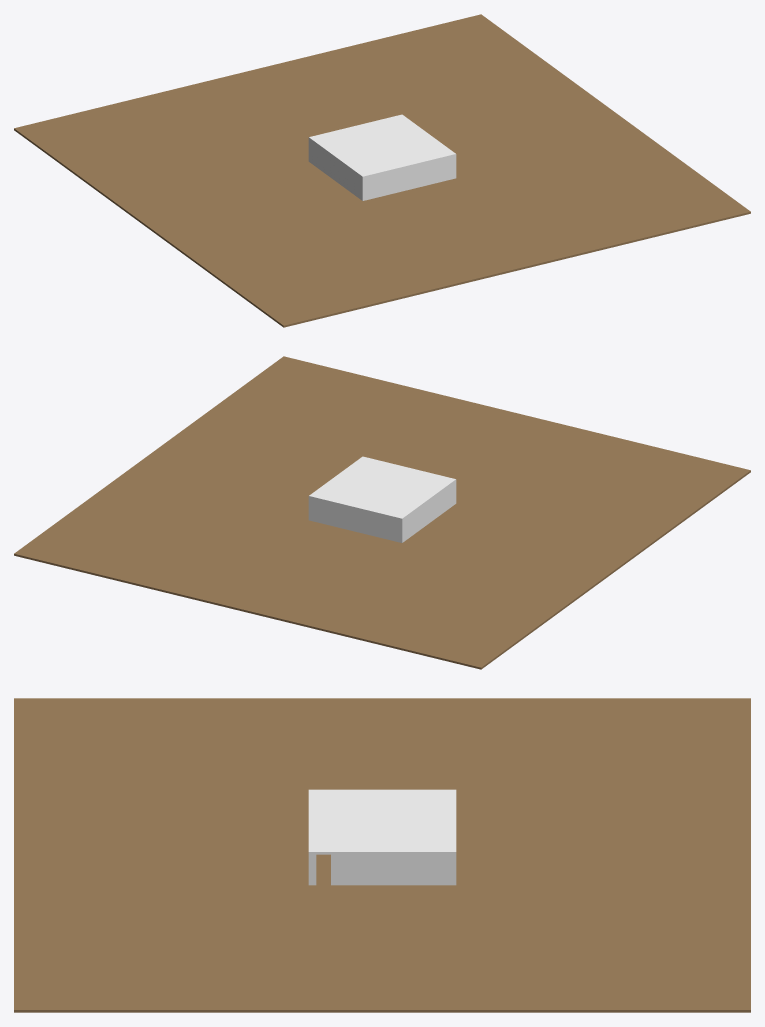
File: two-rooms.glb
The picture shows the model from 3 angles, top to bottom: view 1: azimuth 30°, elevation 25°; view 2: azimuth 150°, elevation 25°; view 3: azimuth 270°, elevation 25°; orthographic projection. The views are drawn at different scales.
Visible parts, largest first — view 1: two-rooms-plane; view 2: two-rooms-plane; view 3: two-rooms-plane.
Boxes of the visible parts, <box> form: two-rooms-plane: <box>14,14,750,327</box>; two-rooms-plane: <box>14,356,750,669</box>; two-rooms-plane: <box>14,698,750,1012</box>.
Size of the model in its own units: 1000 by 54 by 1000.
